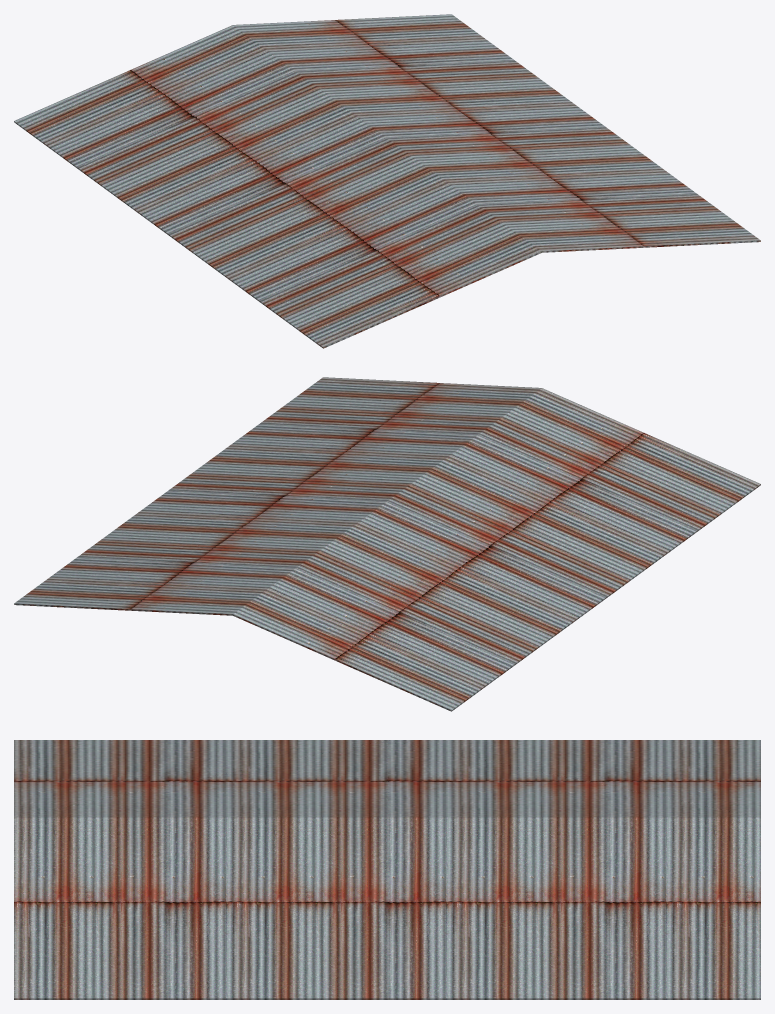
File: stuccobuildinga_id_2_metalcorrugatedb_0_lev1.glb
The picture shows the model from 3 angles, top to bottom: view 1: azimuth 30°, elevation 25°; view 2: azimuth 150°, elevation 25°; view 3: azimuth 270°, elevation 25°; orthographic projection. The views are drawn at different scales.
Parts seen in each view (by area): view 1: stuccobuildinga_id_2_metalcorrugatedb_0_lev1; view 2: stuccobuildinga_id_2_metalcorrugatedb_0_lev1; view 3: stuccobuildinga_id_2_metalcorrugatedb_0_lev1.
Part boxes in pixels (box(x1,y1,x2,y2)): stuccobuildinga_id_2_metalcorrugatedb_0_lev1: box(14, 14, 760, 348); stuccobuildinga_id_2_metalcorrugatedb_0_lev1: box(14, 377, 760, 711); stuccobuildinga_id_2_metalcorrugatedb_0_lev1: box(14, 740, 760, 999).
Bounding box in the file's own units: 6.68 × 0.6429 × 8.17.
1 material, 1 textured.
